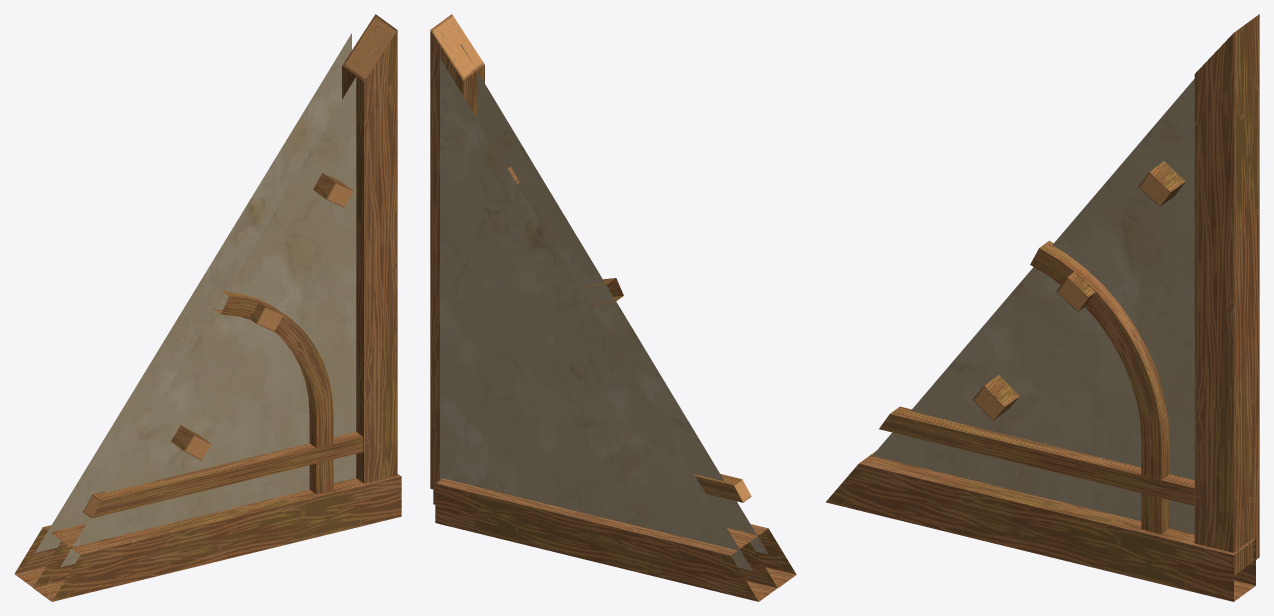
The model's file is Roof_Front_Brick4_Half_L.gltf.
The picture shows the model from 3 angles, left to right: view 1: azimuth 30°, elevation 25°; view 2: azimuth 150°, elevation 25°; view 3: azimuth 330°, elevation 25°; orthographic projection. The views are drawn at different scales.
Parts seen in each view (by area): view 1: Roof_Front_Brick4_Half_L; view 2: Roof_Front_Brick4_Half_L; view 3: Roof_Front_Brick4_Half_L.
Part boxes in pixels (bbox=[...]): Roof_Front_Brick4_Half_L: bbox=[14, 14, 401, 601]; Roof_Front_Brick4_Half_L: bbox=[430, 14, 796, 601]; Roof_Front_Brick4_Half_L: bbox=[826, 14, 1259, 601].
Size of the model in its own units: 2.41 by 3.2 by 0.4896.
Materials: 2 (2 with a texture image).
